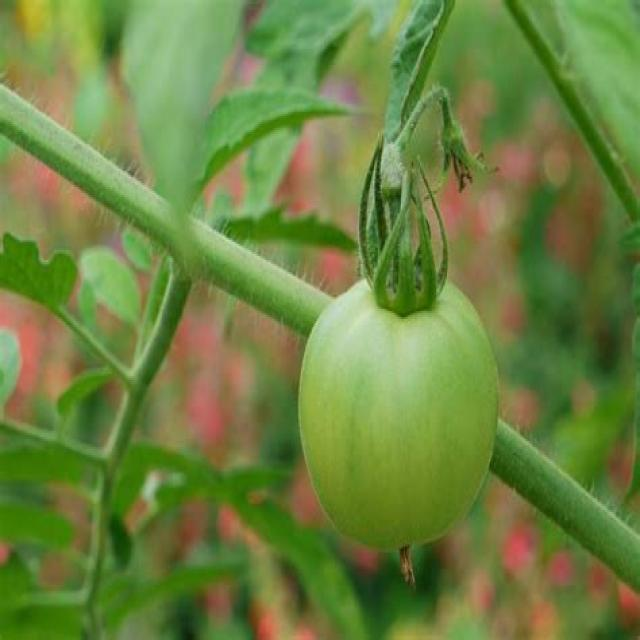Tomato: (296, 133, 500, 556)
